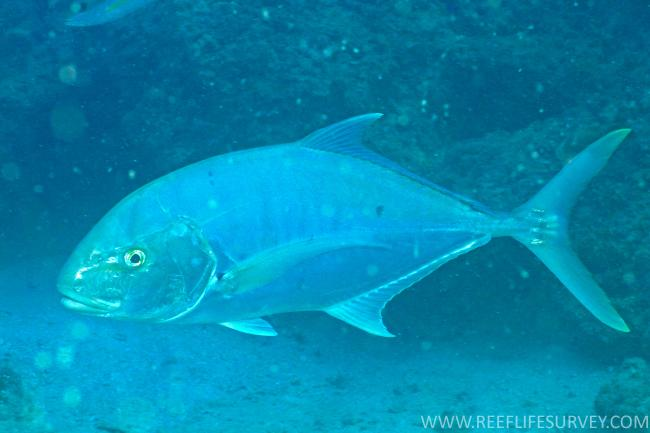fish: (58, 112, 631, 338)
